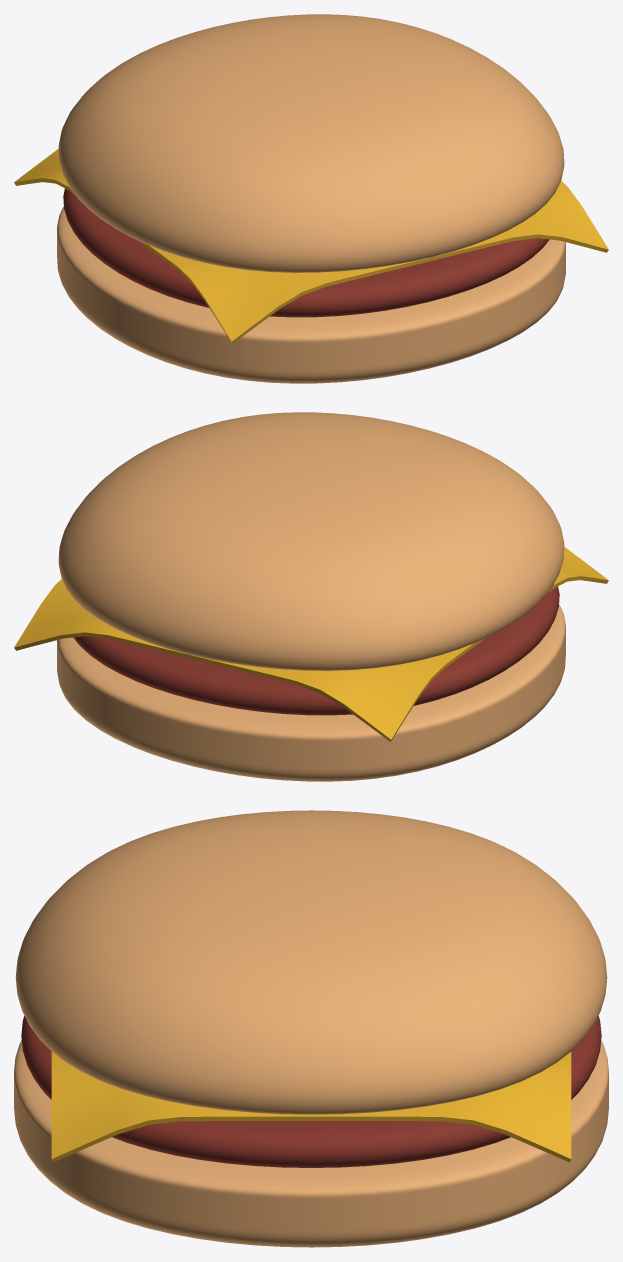
Rendered from hamburger.glb.
The picture shows the model from 3 angles, top to bottom: view 1: azimuth 30°, elevation 25°; view 2: azimuth 150°, elevation 25°; view 3: azimuth 270°, elevation 25°; orthographic projection. The views are drawn at different scales.
Visible parts, largest first — view 1: Topbun, Bottombun, Meat, Cheese; view 2: Topbun, Bottombun, Meat, Cheese; view 3: Topbun, Bottombun, Meat, Cheese.
Part boxes in pixels (x1,y1,x2,y2): Topbun: (58, 14, 564, 272); Bottombun: (57, 206, 565, 383); Meat: (63, 188, 549, 317); Cheese: (14, 149, 608, 343); Topbun: (58, 412, 564, 670); Bottombun: (57, 604, 565, 781); Meat: (73, 586, 559, 715); Cheese: (14, 547, 608, 741); Topbun: (15, 810, 607, 1114); Bottombun: (14, 1040, 608, 1247); Meat: (21, 1016, 601, 1167); Cheese: (51, 1052, 571, 1162).
Size of the model in its own units: 9.17 by 4.66 by 9.17.
